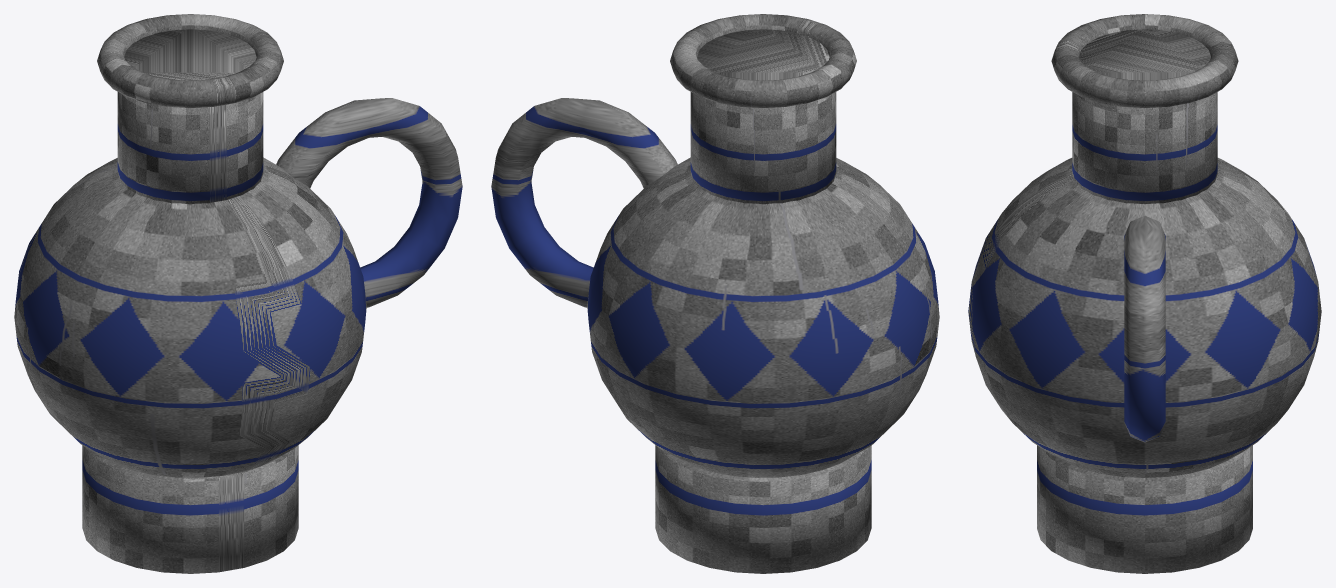
The model's file is bembel.glb.
3 views of the same model, side by side, from view 1: azimuth 30°, elevation 25°; view 2: azimuth 150°, elevation 25°; view 3: azimuth 270°, elevation 25° (orthographic).
Visible parts, largest first — view 1: bembel; view 2: bembel; view 3: bembel.
Part boxes in pixels (x1,y1,x2,y2): bembel: (14,14,462,573); bembel: (491,14,939,573); bembel: (968,14,1321,573).
Size of the model in its own units: 0.235 by 0.255 by 0.17.
1 material, 1 textured.
